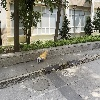fire: (39, 50, 48, 60)
